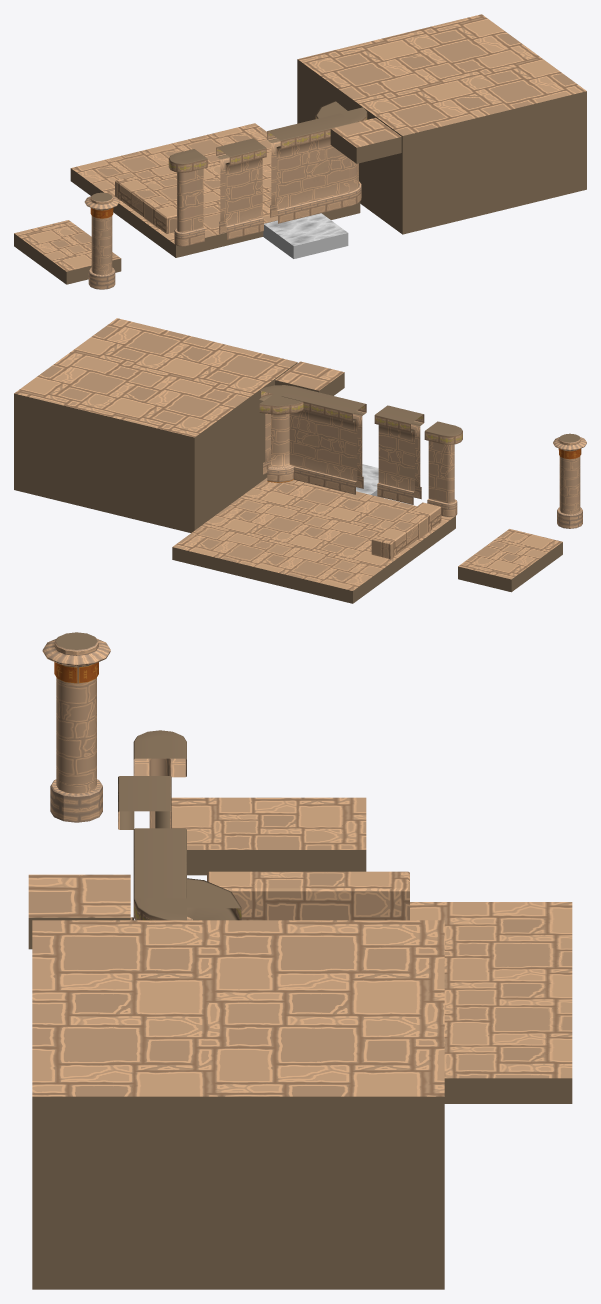
Rendered from Level1Models.fbx.
3 renders of one model, top to bottom at view 1: azimuth 30°, elevation 25°; view 2: azimuth 150°, elevation 25°; view 3: azimuth 270°, elevation 25°, orthographic. The views are drawn at different scales.
Visible parts, largest first — view 1: BigFloor, Floor, Wall, polySurface7, Floor2, WallEdge, Sand6, MovableFloor, Pillar1, Obstacle, WallCorner; view 2: BigFloor, Floor, Wall, Floor2, polySurface7, WallEdge, Pillar1, WallPillar, Obstacle, MovableFloor, WallCorner, Sand6; view 3: BigFloor, Floor, Floor2, Obstacle, Pillar1, MovableFloor, Wall, polySurface7, WallEdge, WallPillar, WallCorner.
Part boxes in pixels (left/top/right/bottom): BigFloor: left=297, top=14, right=586, bottom=234; Floor: left=70, top=123, right=360, bottom=257; Wall: left=267, top=113, right=353, bottom=223; polySurface7: left=216, top=138, right=266, bottom=239; Floor2: left=14, top=220, right=121, bottom=284; WallEdge: left=168, top=149, right=207, bottom=246; Sand6: left=263, top=213, right=348, bottom=258; MovableFloor: left=330, top=118, right=401, bottom=163; Pillar1: left=84, top=192, right=119, bottom=289; Obstacle: left=115, top=176, right=176, bottom=233; WallCorner: left=340, top=107, right=367, bottom=205; BigFloor: left=14, top=318, right=297, bottom=532; Floor: left=172, top=478, right=455, bottom=603; Wall: left=281, top=386, right=366, bottom=494; Floor2: left=458, top=529, right=562, bottom=592; polySurface7: left=374, top=405, right=424, bottom=504; WallEdge: left=424, top=421, right=462, bottom=516; Pillar1: left=553, top=433, right=586, bottom=528; WallPillar: left=259, top=394, right=303, bottom=482; Obstacle: left=371, top=502, right=441, bottom=559; MovableFloor: left=275, top=361, right=344, bottom=395; WallCorner: left=259, top=385, right=293, bottom=474; Sand6: left=356, top=464, right=383, bottom=497; BigFloor: left=32, top=920, right=444, bottom=1289; Floor: left=410, top=902, right=572, bottom=1103; Floor2: left=171, top=797, right=366, bottom=875; Obstacle: left=207, top=871, right=409, bottom=920; Pillar1: left=42, top=632, right=110, bottom=822; MovableFloor: left=28, top=874, right=130, bottom=949; Wall: left=133, top=828, right=186, bottom=898; polySurface7: left=118, top=776, right=171, bottom=920; WallEdge: left=133, top=730, right=186, bottom=828; WallPillar: left=187, top=878, right=241, bottom=920; WallCorner: left=133, top=898, right=186, bottom=920.
Bounding box in the file's own units: 22.14 × 4.33 × 10.89.
